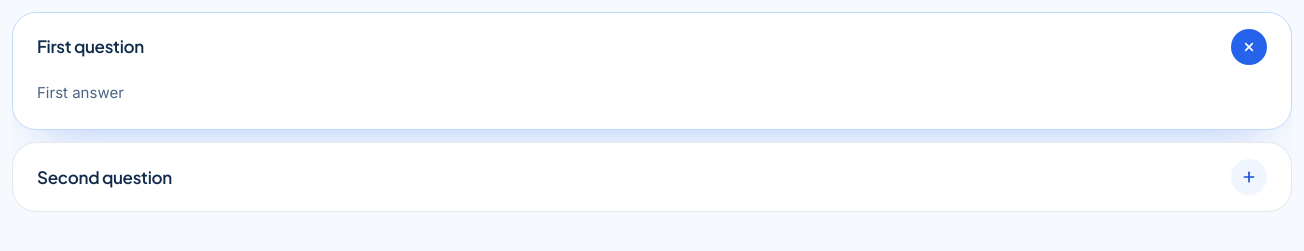
Test: Accordion › is single-open and can be collapsed again
What coordinates should you click on to do the following:
click the button "Second question"
I would click on:
 (104, 177)
Its box is [13,143,1291,211].
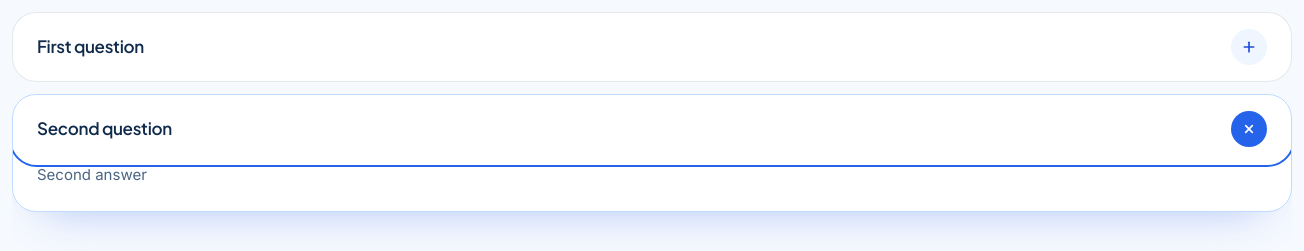
Expected: the button "Second question" is expanded
Expected: the button "First question" is collapsed, [13,13,1291,81]
What coordinates should you click on to do the following:
click the button "Second question"
I would click on:
 (104, 128)
Its box is [13,95,1291,163].
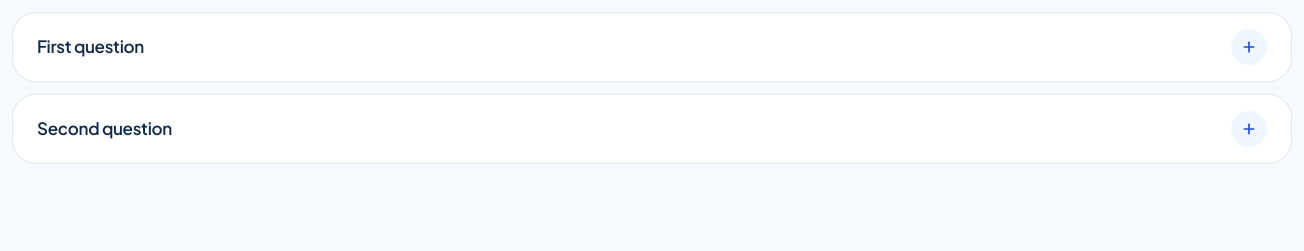
Expected: the button "Second question" is collapsed, [13,95,1291,163]
